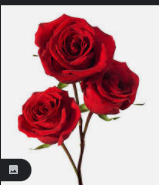RedRose: (22, 11, 118, 82), (8, 87, 87, 145), (78, 59, 145, 121)
